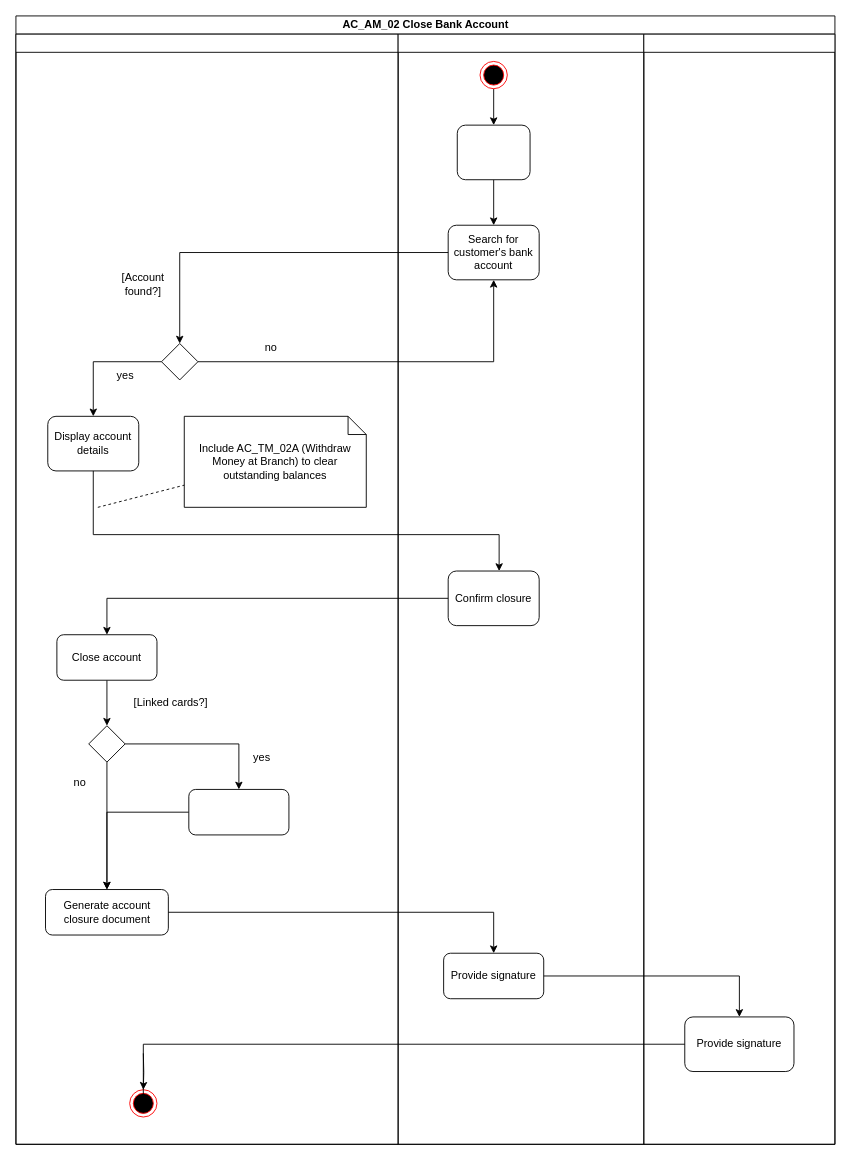
Image size: 851x1160. Some labels were removed from this diagram. The box of each missing label's shape, as (x1, y1, x2, y2) in pixels:
Bank Teller: (397, 33, 644, 1144)
Customer: (643, 33, 835, 1144)
Deactivate linked card: (188, 789, 289, 835)
Select "Close account": (456, 124, 530, 180)
System: (15, 33, 398, 1144)
